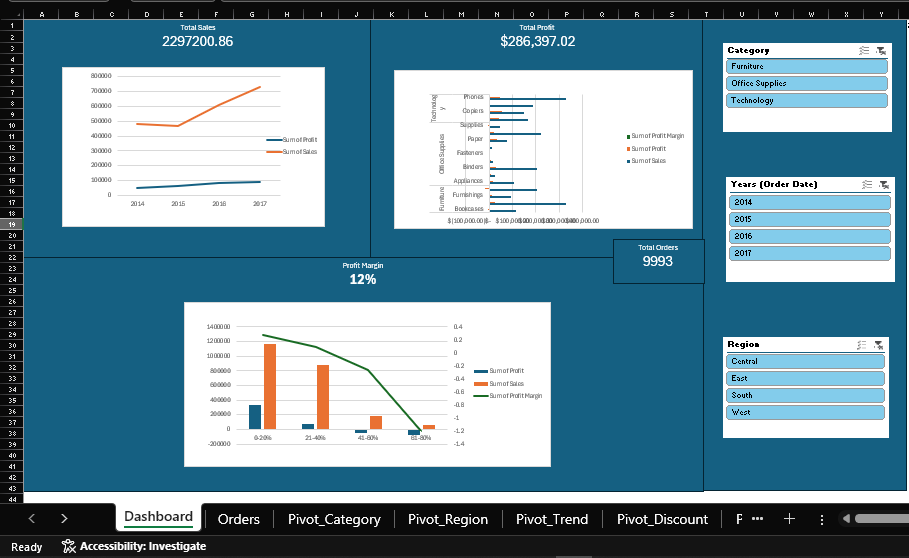

Layout of this report page (visuals, bound fields, positions):
{"tool":"powerbi","page":{"name":"Executive Summary","canvas":[1920,1080],"ordinal":0},"visuals":[{"type":"cardVisual","fields":{"Data":["Key Measures.Total Sales"]},"box":[20,198,360,140],"z":1000},{"type":"cardVisual","fields":{"Data":["Key Measures.Total Profit"]},"box":[400,198,360,140],"z":1001},{"type":"cardVisual","fields":{"Data":["Key Measures.Profit Margin %"]},"box":[780,198,360,140],"z":1002},{"type":"cardVisual","fields":{"Data":["Key Measures.Total Orders"]},"box":[1160,198,360,140],"z":1003},{"type":"cardVisual","fields":{"Data":["Key Measures.Total Quantity"]},"box":[1540,198,360,140],"z":1004},{"type":"lineChart","title":"Monthly Sales vs Profit","fields":{"Category":["Dim_Date.Date.Variation.Date Hierarchy.Year","Dim_Date.Date.Variation.Date Hierarchy.Month"],"Y":["Key Measures.Total Sales","Key Measures.Total Profit"]},"box":[20,358,940,702],"z":5000},{"type":"clusteredBarChart","title":"Sales vs Profit by Category","fields":{"Category":["Fact_Orders.Category"],"Y":["Key Measures.Total Sales","Key Measures.Total Profit"]},"box":[980,358,920,702],"z":6000},{"type":"slicer","fields":{"Values":["Dim_Date.Year"]},"box":[20,115,940,68],"z":7000},{"type":"slicer","fields":{"Values":["Fact_Orders.Region"]},"box":[980,115,920,68],"z":7001},{"type":"textbox","box":[0,0,1920,105],"z":9000}]}

Visuals, with their boxes on the page's 1920x1080 design canvas (x1, y1, x2, y2). These are canvas units, not pixel positions in the 909x558 screenshot, which may show the page scaled, cropped or inside an application window:
cardVisual - Key Measures.Total Sales: l=20, t=198, r=380, b=338
cardVisual - Key Measures.Total Profit: l=400, t=198, r=760, b=338
cardVisual - Key Measures.Profit Margin %: l=780, t=198, r=1140, b=338
cardVisual - Key Measures.Total Orders: l=1160, t=198, r=1520, b=338
cardVisual - Key Measures.Total Quantity: l=1540, t=198, r=1900, b=338
"Monthly Sales vs Profit" lineChart: l=20, t=358, r=960, b=1060
"Sales vs Profit by Category" clusteredBarChart: l=980, t=358, r=1900, b=1060
slicer - Dim_Date.Year: l=20, t=115, r=960, b=183
slicer - Fact_Orders.Region: l=980, t=115, r=1900, b=183
textbox: l=0, t=0, r=1920, b=105
